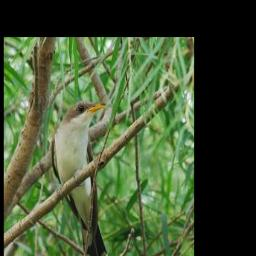Cuckoo: (51, 99, 112, 256)
